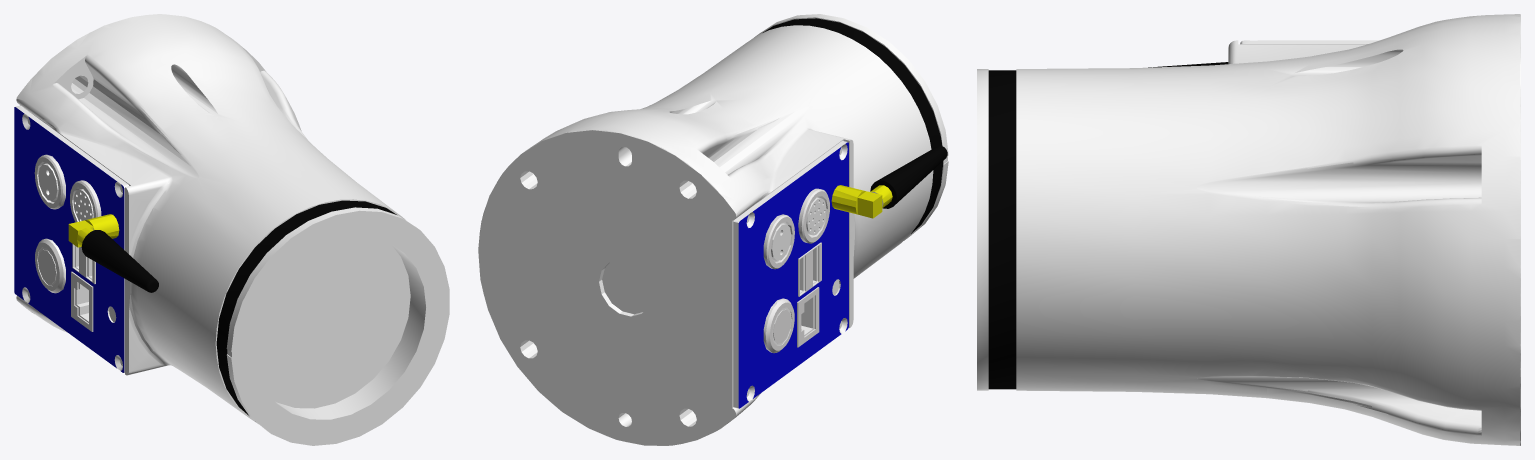
The picture shows the model from 3 angles, left to right: view 1: azimuth 30°, elevation 25°; view 2: azimuth 150°, elevation 25°; view 3: azimuth 270°, elevation 25°; orthographic projection. The views are drawn at different scales.
Parts seen in each view (by area): view 1: mesh-a37e4236-0634-42b7-823b-285c8b6b1c4f-mesh; view 2: mesh-a37e4236-0634-42b7-823b-285c8b6b1c4f-mesh; view 3: mesh-a37e4236-0634-42b7-823b-285c8b6b1c4f-mesh.
Part boxes in pixels (bbox=[...]): mesh-a37e4236-0634-42b7-823b-285c8b6b1c4f-mesh: bbox=[14, 14, 449, 445]; mesh-a37e4236-0634-42b7-823b-285c8b6b1c4f-mesh: bbox=[478, 14, 948, 445]; mesh-a37e4236-0634-42b7-823b-285c8b6b1c4f-mesh: bbox=[977, 14, 1520, 445].
Bounding box in the file's own units: 0.1143 × 0.11 × 0.1385.
1 material, 1 textured.
